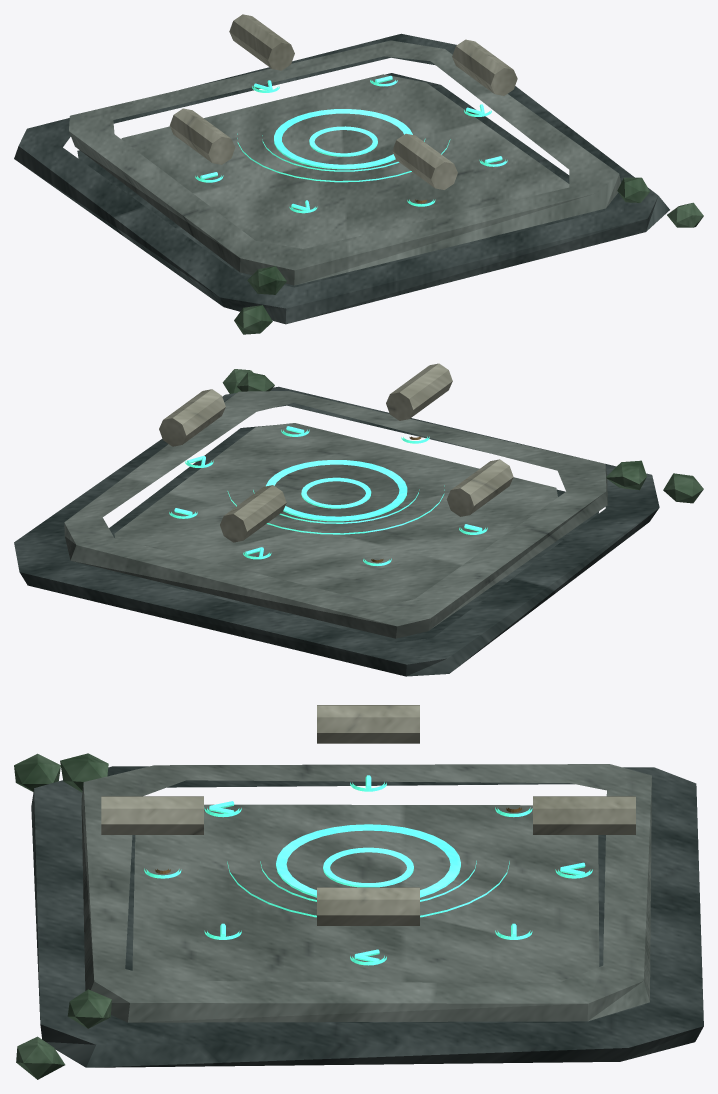
Rendered from 0566_rune_dais_16.glb.
3 views of the same model, one above another, from view 1: azimuth 30°, elevation 25°; view 2: azimuth 150°, elevation 25°; view 3: azimuth 270°, elevation 25° (orthographic). The views are drawn at different scales.
Visible parts, largest first — view 1: stone, stone_dark, stone_light, glow, moss; view 2: stone, stone_dark, stone_light, glow, moss; view 3: stone, stone_dark, stone_light, glow, moss.
Boxes of the visible parts, x1=… form: stone: x1=69, y1=40, x2=620, y2=285; stone_dark: x1=14, y1=33, x2=669, y2=324; stone_light: x1=169, y1=14, x2=517, y2=189; glow: x1=195, y1=75, x2=507, y2=213; moss: x1=234, y1=177, x2=703, y2=334; stone: x1=64, y1=391, x2=607, y2=638; stone_dark: x1=14, y1=386, x2=659, y2=676; stone_light: x1=159, y1=363, x2=513, y2=542; glow: x1=169, y1=426, x2=487, y2=565; moss: x1=222, y1=369, x2=703, y2=503; stone: x1=81, y1=764, x2=651, y2=1022; stone_dark: x1=31, y1=766, x2=703, y2=1067; stone_light: x1=101, y1=705, x2=635, y2=925; glow: x1=144, y1=775, x2=592, y2=965; moss: x1=14, y1=753, x2=111, y2=1079.
Bounding box in the file's own units: 3.43 × 0.7301 × 3.36.
Materials: 6 (6 with a texture image).
